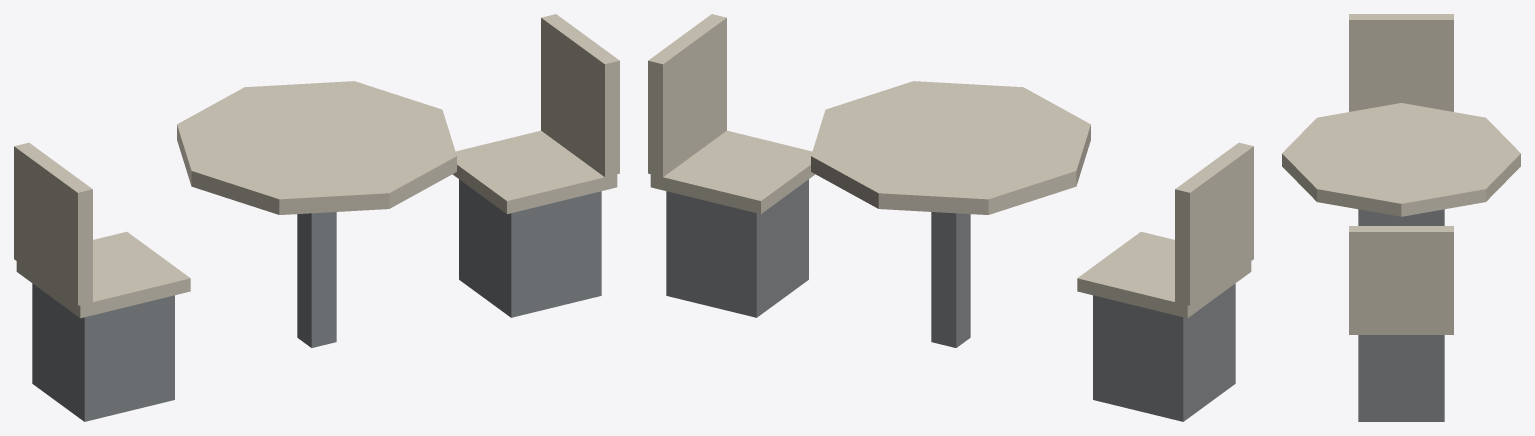
The model's file is table.glb.
3 renders of one model, left to right at view 1: azimuth 30°, elevation 25°; view 2: azimuth 150°, elevation 25°; view 3: azimuth 270°, elevation 25°, orthographic. The views are drawn at different scales.
Visible parts, largest first — view 1: table; view 2: table; view 3: table.
Part boxes in pixels (<box>): table: <box>14,14,619,421</box>; table: <box>648,14,1253,421</box>; table: <box>1282,14,1520,421</box>.
Bounding box in the file's own units: 2.16 × 0.9 × 1.
